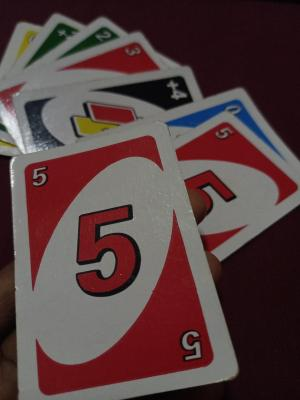-2: (50, 17, 86, 49)
num_2: (91, 23, 114, 46)
num_3: (118, 43, 146, 62)
num_5: (207, 120, 239, 144)
red: (0, 118, 238, 400)
wild-4: (8, 46, 203, 154)
